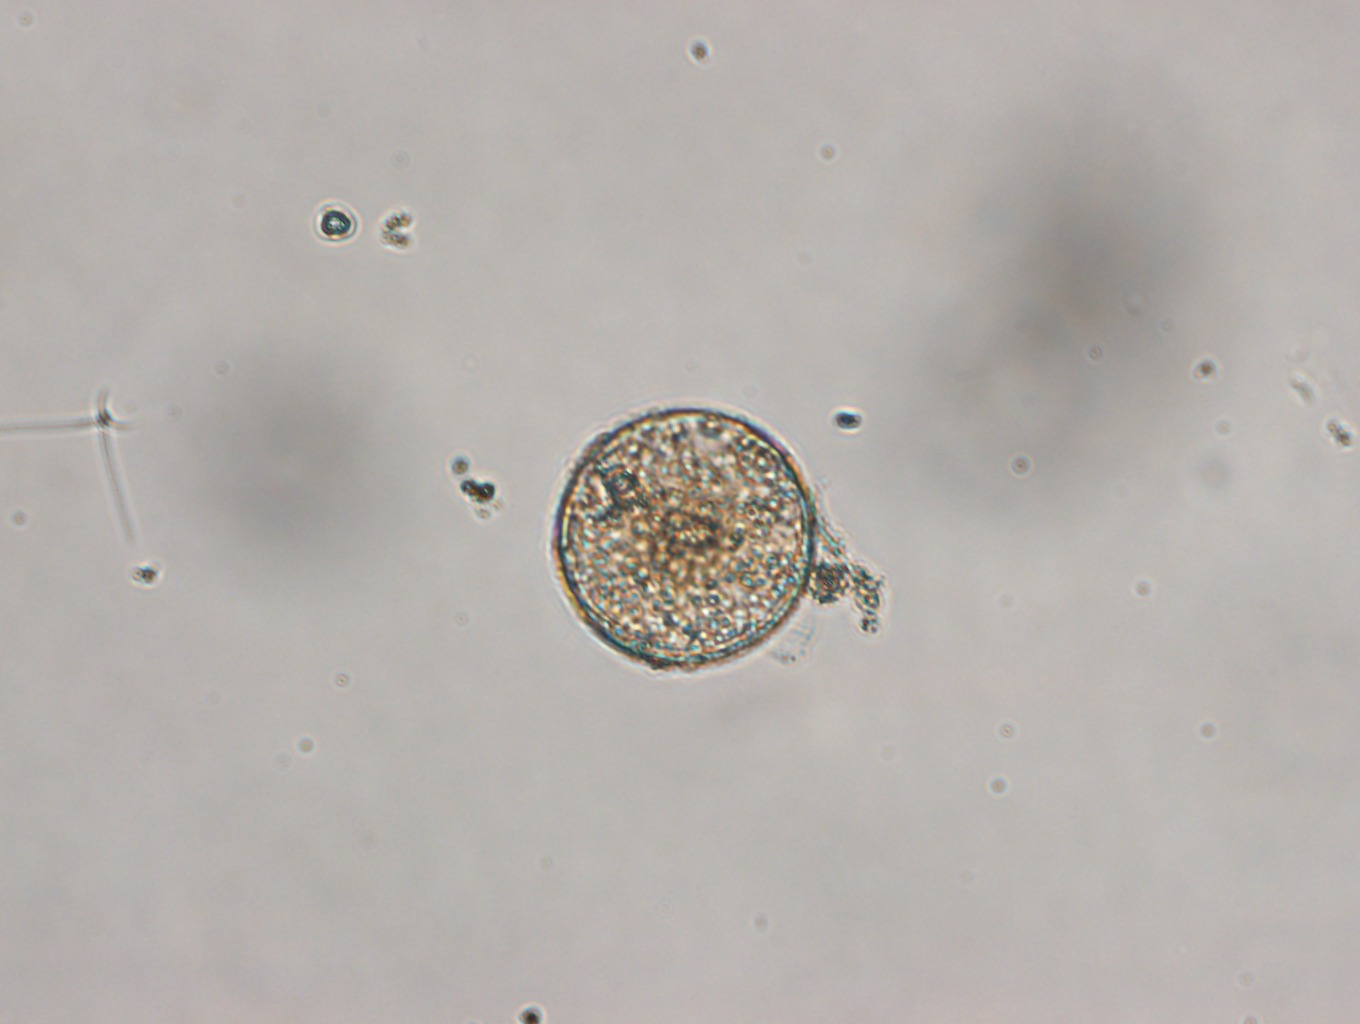coscinodiscus: (550, 408, 816, 673)
